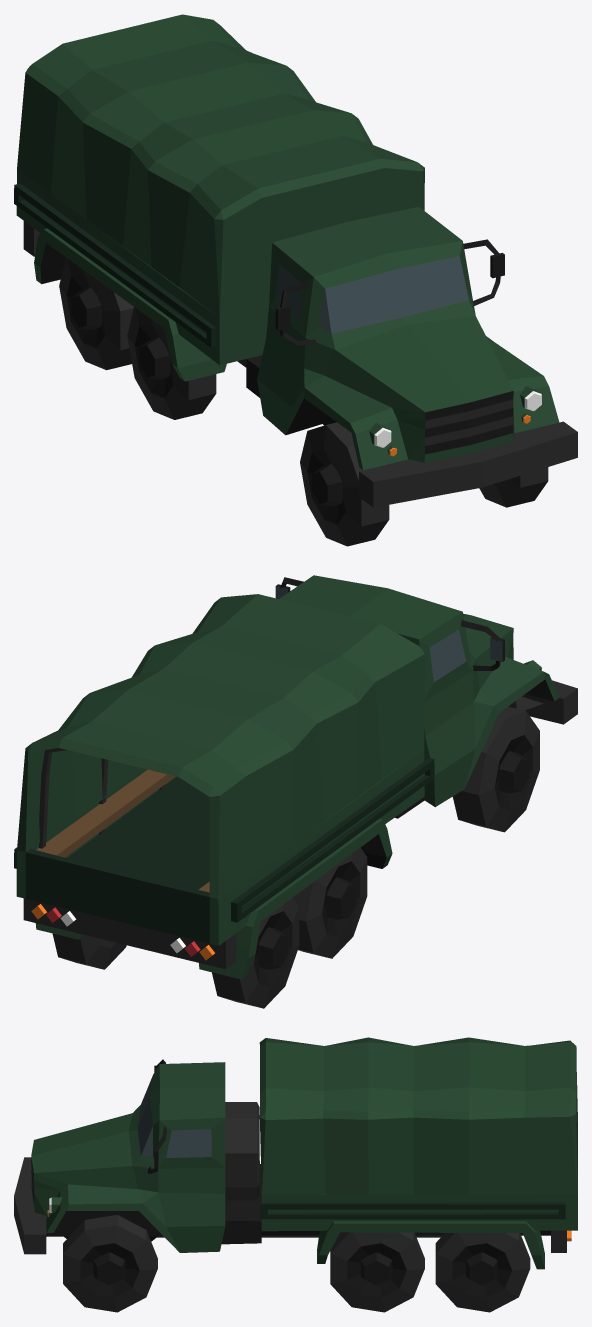
File: military_military-truck-cover.fbx
3 views of the same model, one above another, from view 1: azimuth 30°, elevation 25°; view 2: azimuth 150°, elevation 25°; view 3: azimuth 270°, elevation 25° (orthographic). The views are drawn at different scales.
Visible parts, largest first — view 1: military_truck_cover_base, military_truck_cover_cover, military_truck_cover_wheel_FR, military_truck_cover_wheel_BR2, military_truck_cover_wheel_BR1, military_truck_cover_wheel_FL; view 2: military_truck_cover_cover, military_truck_cover_base, military_truck_cover_wheel_FR, military_truck_cover_wheel_BR1, military_truck_cover_wheel_BR2, military_truck_cover_wheel_LR2; view 3: military_truck_cover_cover, military_truck_cover_base, military_truck_cover_wheel_FL, military_truck_cover_wheel_LR1, military_truck_cover_wheel_LR2.
Part boxes in pixels (bbox=[...]): military_truck_cover_base: bbox=[14, 169, 577, 507]; military_truck_cover_cover: bbox=[17, 14, 424, 317]; military_truck_cover_wheel_FR: bbox=[300, 422, 389, 546]; military_truck_cover_wheel_BR2: bbox=[59, 258, 133, 370]; military_truck_cover_wheel_BR1: bbox=[127, 307, 216, 419]; military_truck_cover_wheel_FL: bbox=[479, 467, 548, 507]; military_truck_cover_cover: bbox=[17, 594, 424, 899]; military_truck_cover_base: bbox=[14, 575, 577, 979]; military_truck_cover_wheel_FR: bbox=[452, 706, 539, 832]; military_truck_cover_wheel_BR1: bbox=[293, 847, 367, 958]; military_truck_cover_wheel_BR2: bbox=[212, 898, 299, 1008]; military_truck_cover_wheel_LR2: bbox=[52, 933, 126, 969]; military_truck_cover_cover: bbox=[259, 1037, 577, 1194]; military_truck_cover_base: bbox=[14, 1059, 577, 1269]; military_truck_cover_wheel_FL: bbox=[63, 1215, 157, 1312]; military_truck_cover_wheel_LR1: bbox=[330, 1232, 424, 1312]; military_truck_cover_wheel_LR2: bbox=[435, 1233, 530, 1312].
Bounding box in the file's own units: 71.86 × 82.44 × 200.
